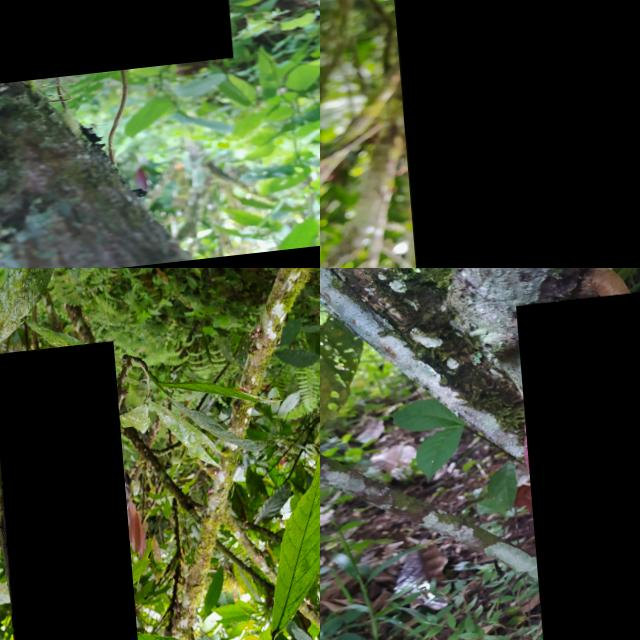Fitoftora: (377, 0, 640, 268), (0, 350, 133, 640)
Monilia: (513, 291, 640, 640), (0, 0, 225, 96)
